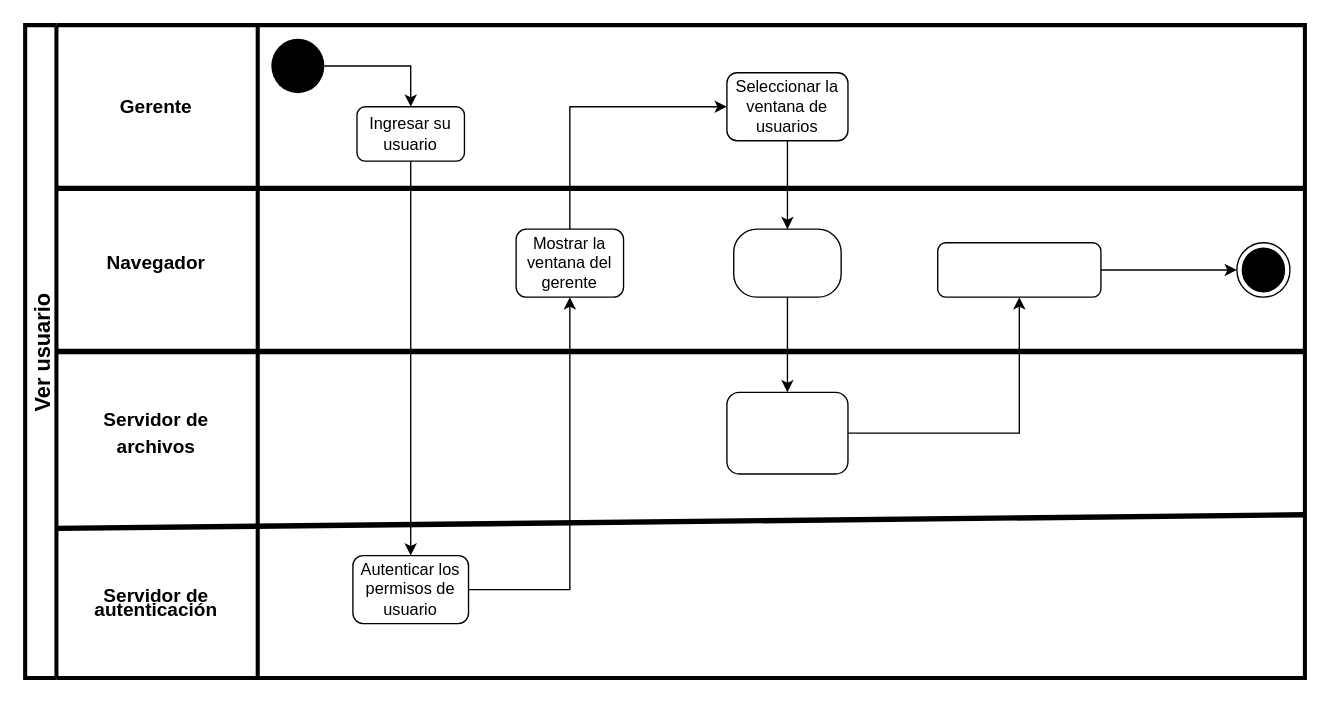
Some shapes in this 1333 by 704 pixel diagram are drawn without their labels. The shapes that lost their labels are listed below. From the top down, each one's centre as x and y in pixels, then its label:
point (786, 262): Seleccionar usuario
point (1018, 269): Mostrar usuario en específico
point (787, 432): Obtener datos del usuario seleccionado
